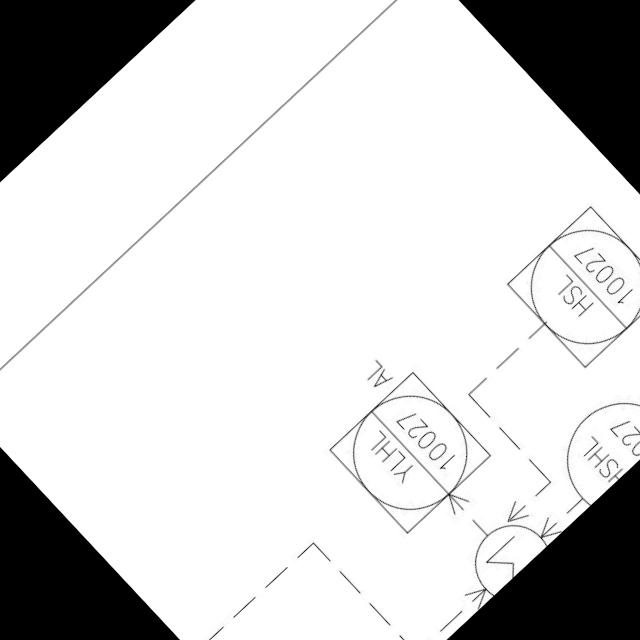M: (455, 505, 550, 598)
